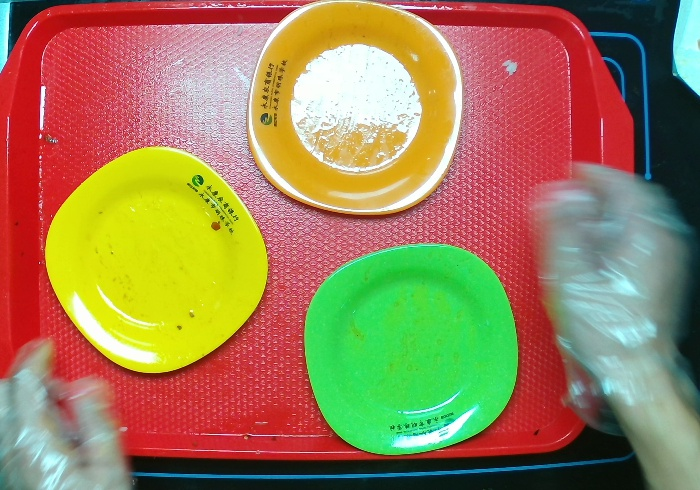YKMZ-Huang_Se_Fang_Die: (44, 144, 272, 378)
YKMZ-Ju_Se_Fang_Die: (245, 1, 465, 216)
YKMZ-Lv_Se_Fang_Die: (298, 239, 519, 458)
